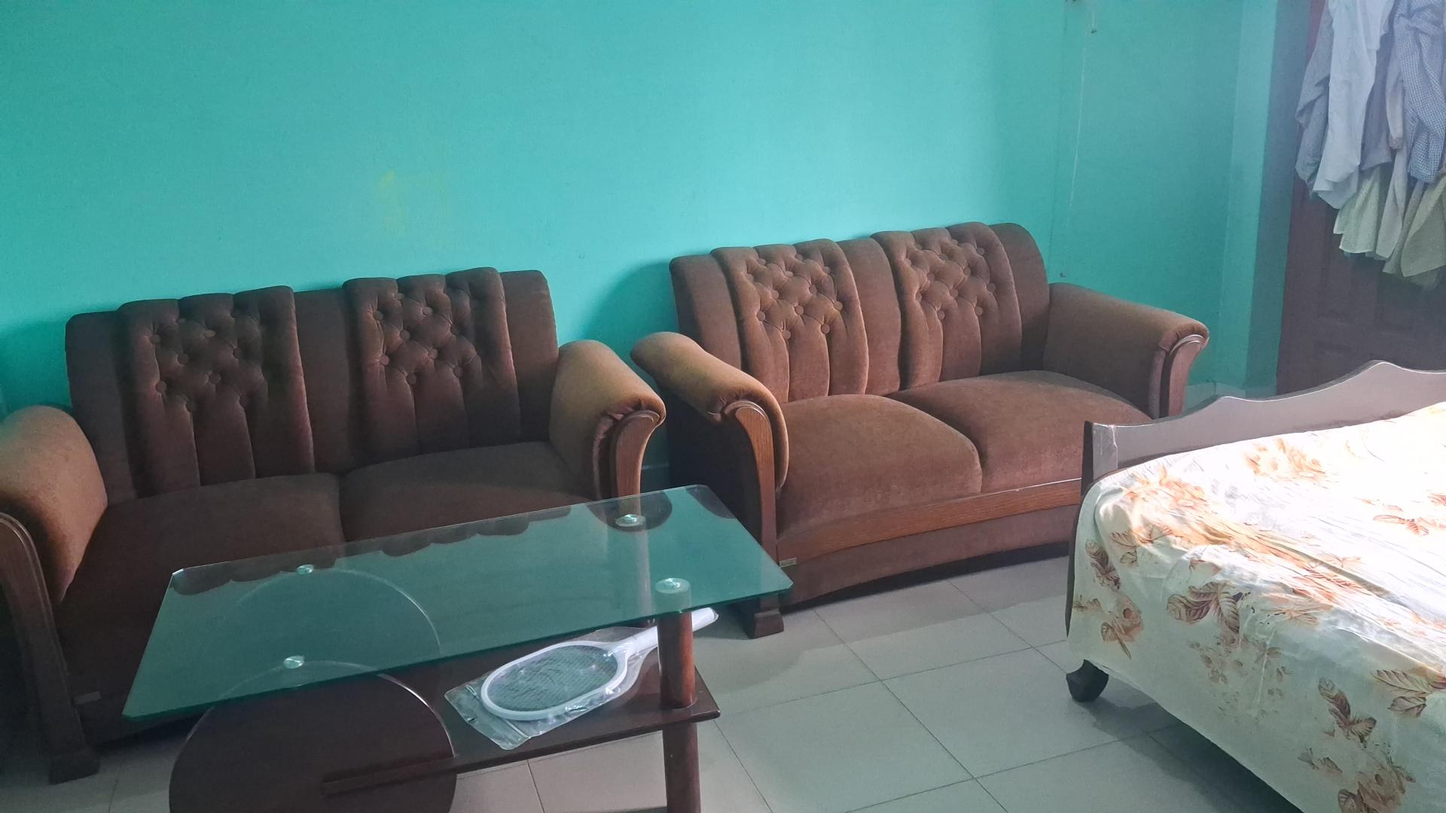Table: (122, 490, 791, 810)
